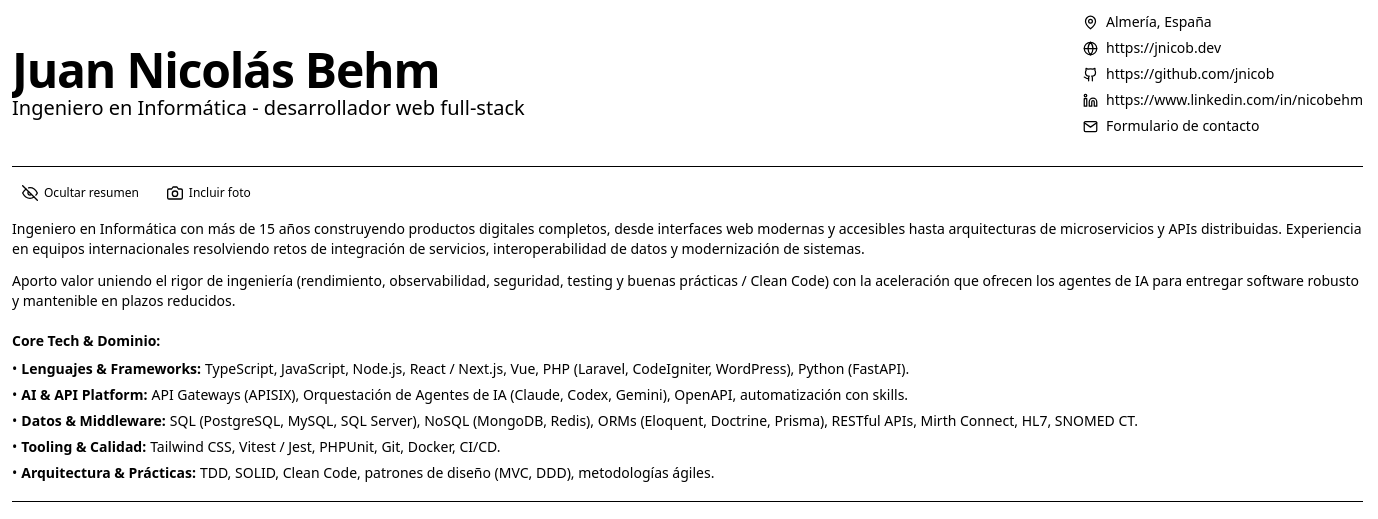
Test case: CvHeader › hides profile photo by default and toggles on/off when clicked
The image size is (1378, 519).
# Toggle on
What coordinates should you click on to do the following:
click the button "Incluir foto"
I would click on:
 (209, 193)
Its box is x1=157 y1=179 x2=261 y2=207.
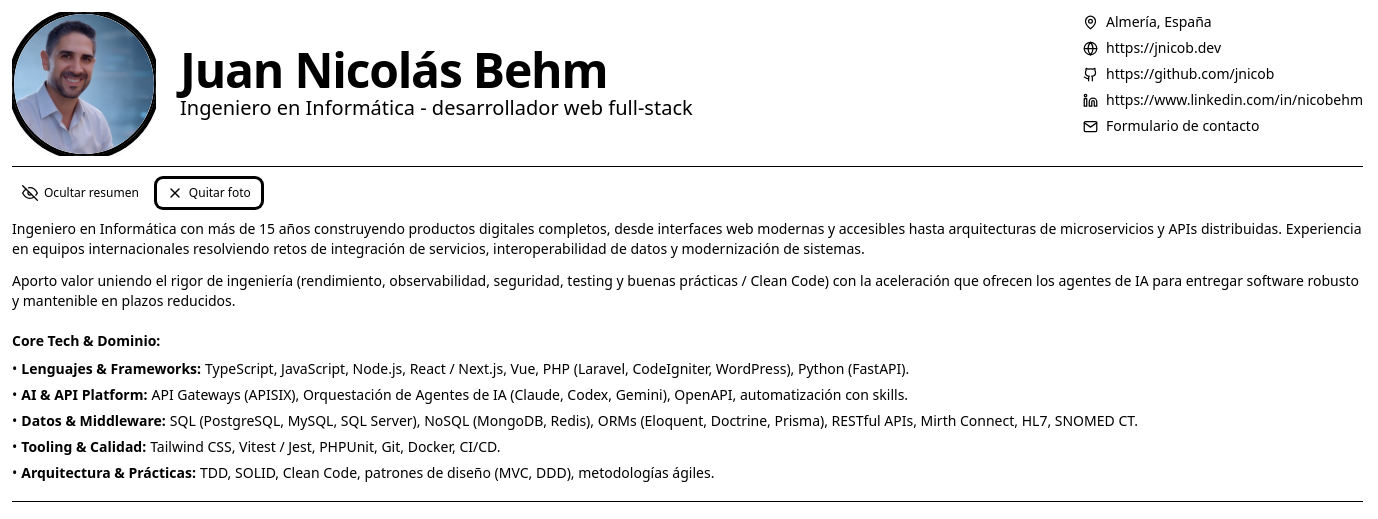
Expected: the element with test id "cv-photo" is shown, x1=12 y1=12 x2=156 y2=156
Expected: the button "Quitar foto" is shown
# Toggle off again
What coordinates should you click on to do the following:
click the button "Quitar foto"
I would click on:
 (209, 193)
Its box is x1=157 y1=179 x2=261 y2=207.
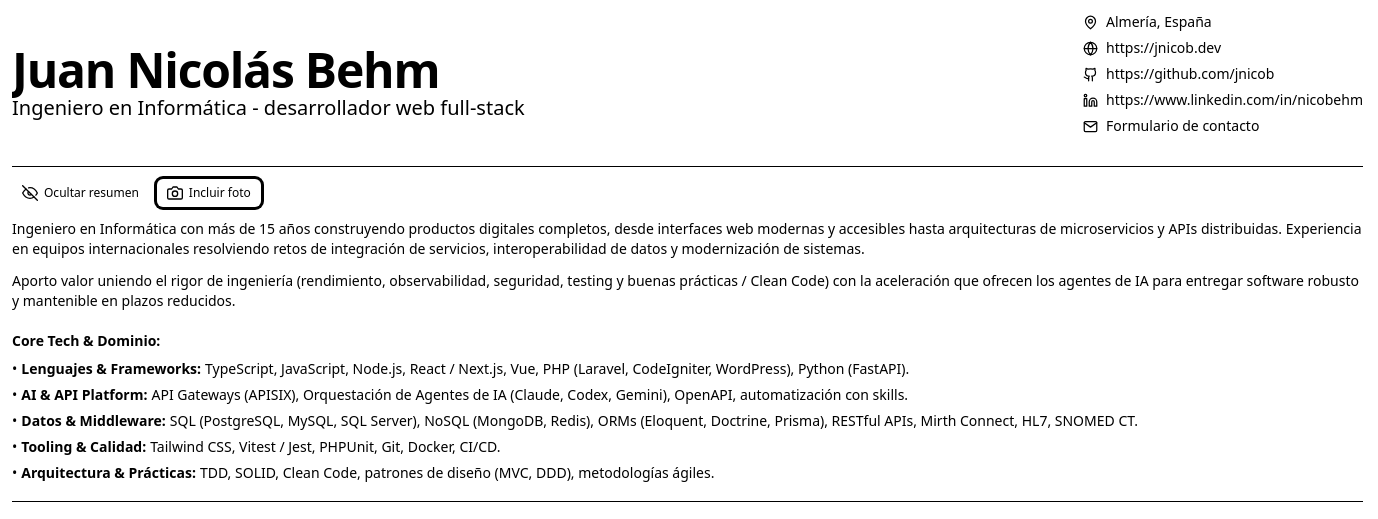
Expected: the element with test id "cv-photo" is gone
Expected: the button "Incluir foto" is shown, x1=157 y1=179 x2=261 y2=207
